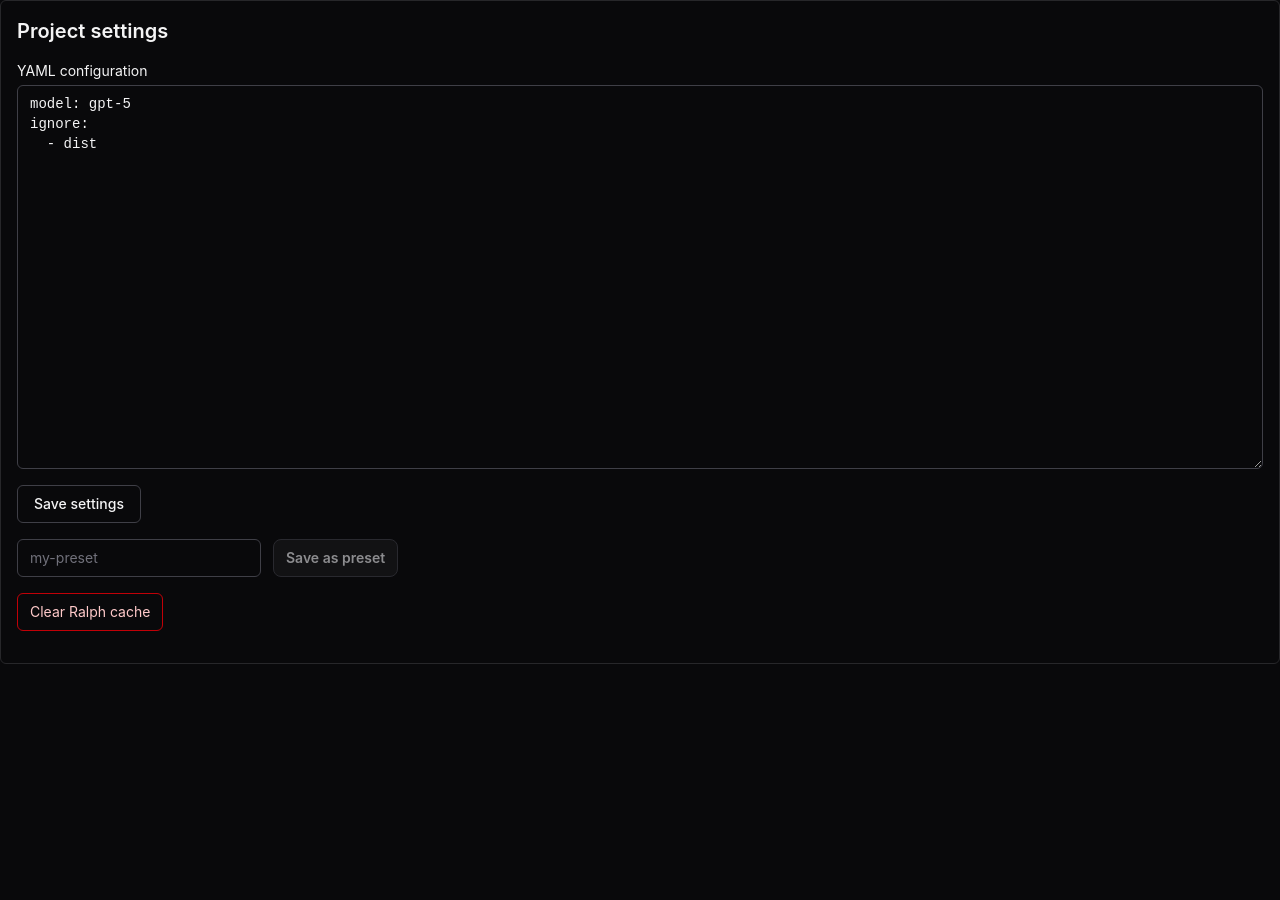
Scenario: ProjectConfigView › prevents save and shows an error for invalid YAML
Replace the text in the text box labelled "YAML configuration" with "model: [broken" at [640, 277], box [17, 85, 1263, 469]
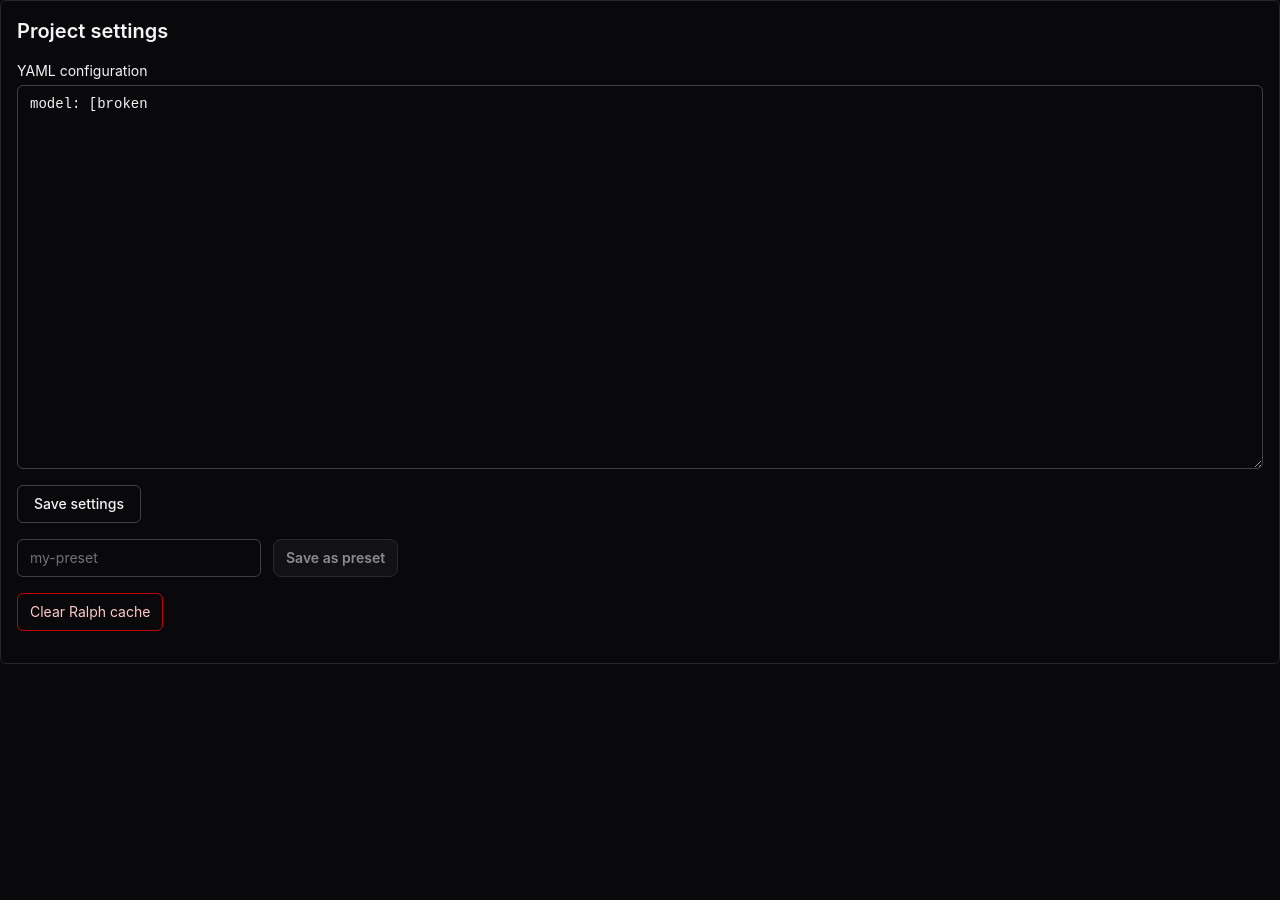
Click the button "Save settings" at [79, 504], box [17, 485, 141, 523]
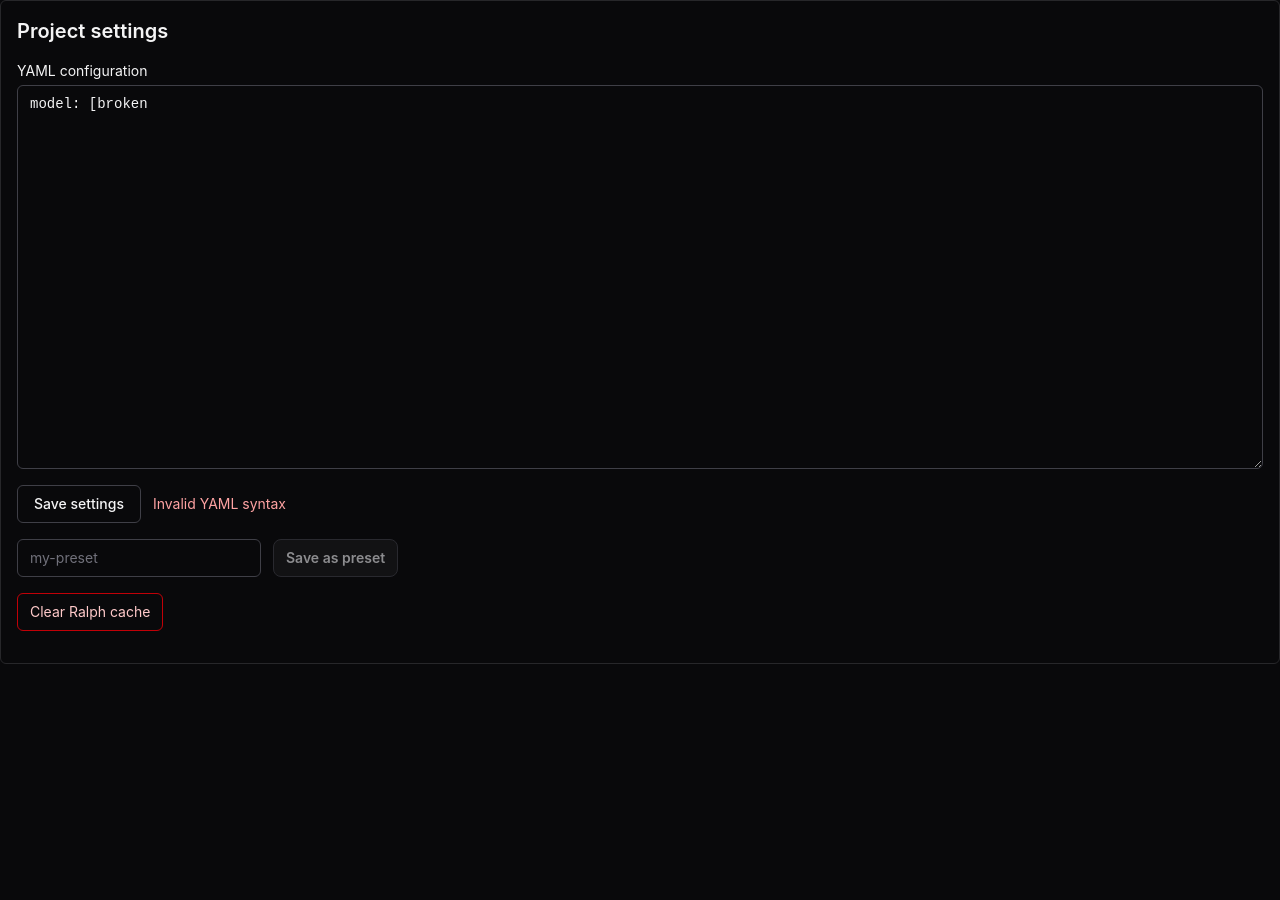
Now the text "Invalid YAML syntax" is shown, box [153, 494, 286, 514]
